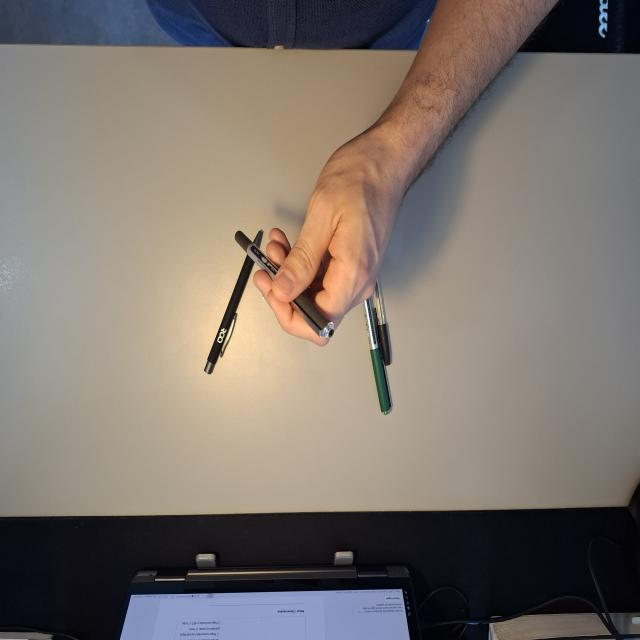glove_off: (252, 124, 408, 349)
